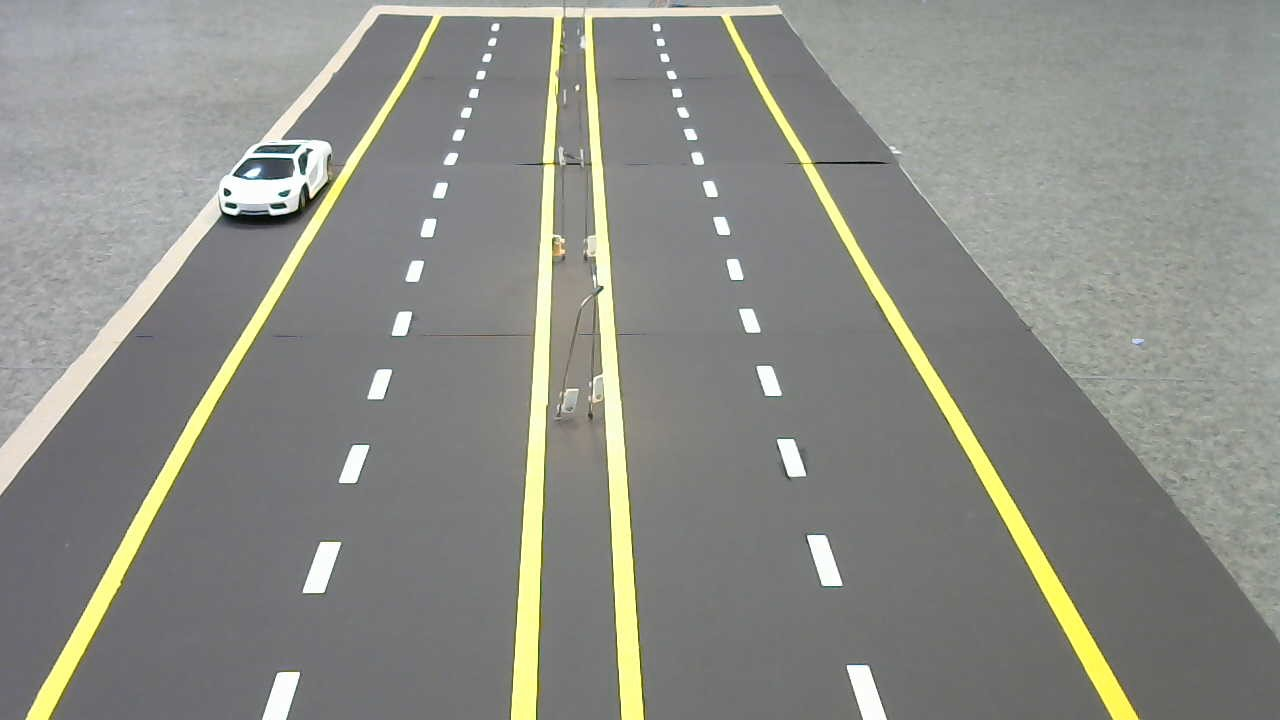front_car: (216, 136, 334, 226)
